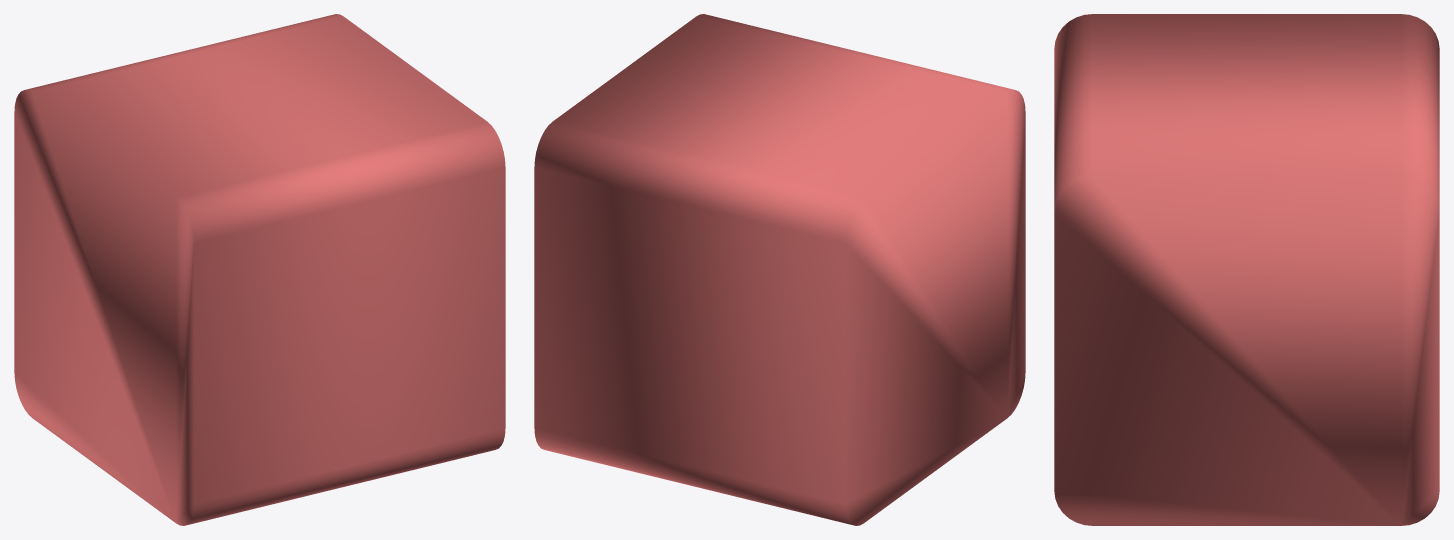
File: Platform_inside.fbx
The picture shows the model from 3 angles, left to right: view 1: azimuth 30°, elevation 25°; view 2: azimuth 150°, elevation 25°; view 3: azimuth 270°, elevation 25°; orthographic projection. The views are drawn at different scales.
Visible parts, largest first — view 1: Cube; view 2: Cube; view 3: Cube.
Boxes of the visible parts, x1,y1,x2,y2 form: Cube: [14, 14, 505, 525]; Cube: [534, 14, 1025, 525]; Cube: [1054, 14, 1439, 525].
Size of the model in its own units: 200 by 200 by 200.
